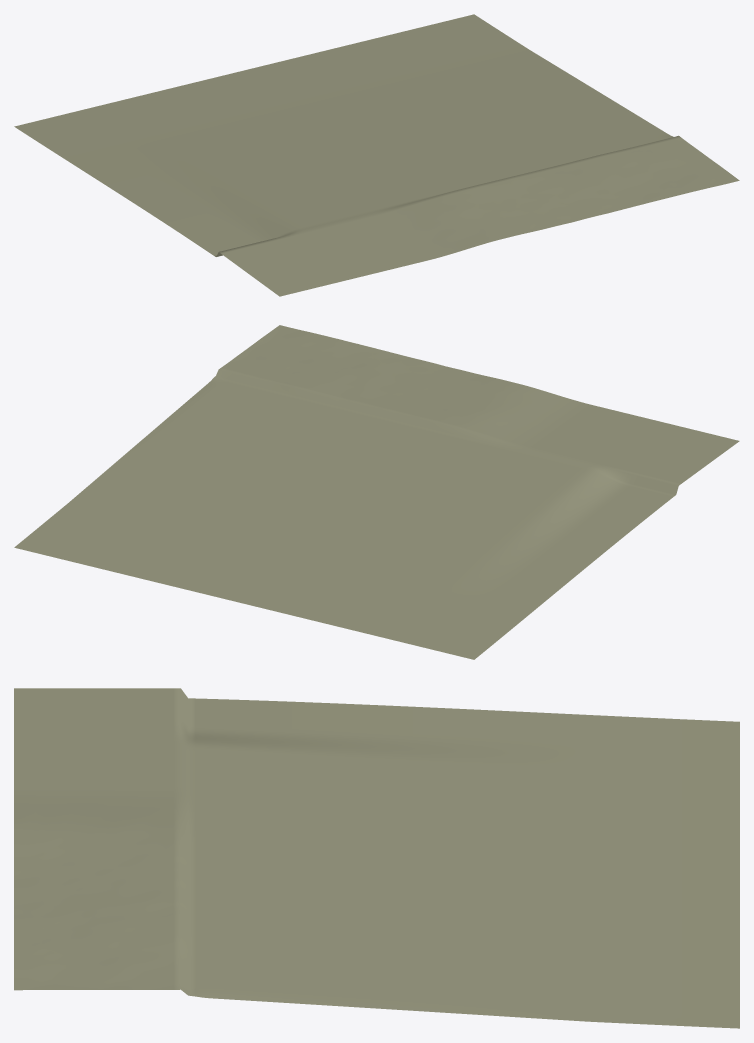
The model's file is SM_VB_Terrain_2_1.fbx.
The picture shows the model from 3 angles, top to bottom: view 1: azimuth 30°, elevation 25°; view 2: azimuth 150°, elevation 25°; view 3: azimuth 270°, elevation 25°; orthographic projection. The views are drawn at different scales.
Visible parts, largest first — view 1: SM_VB_Terrain_2_1; view 2: SM_VB_Terrain_2_1; view 3: SM_VB_Terrain_2_1.
Boxes of the visible parts, box(x1,y1,x2,y2) form: SM_VB_Terrain_2_1: box(14, 14, 739, 296); SM_VB_Terrain_2_1: box(14, 325, 739, 659); SM_VB_Terrain_2_1: box(14, 688, 739, 1028).
Bounding box in the file's own units: 400 × 23.65 × 400.
